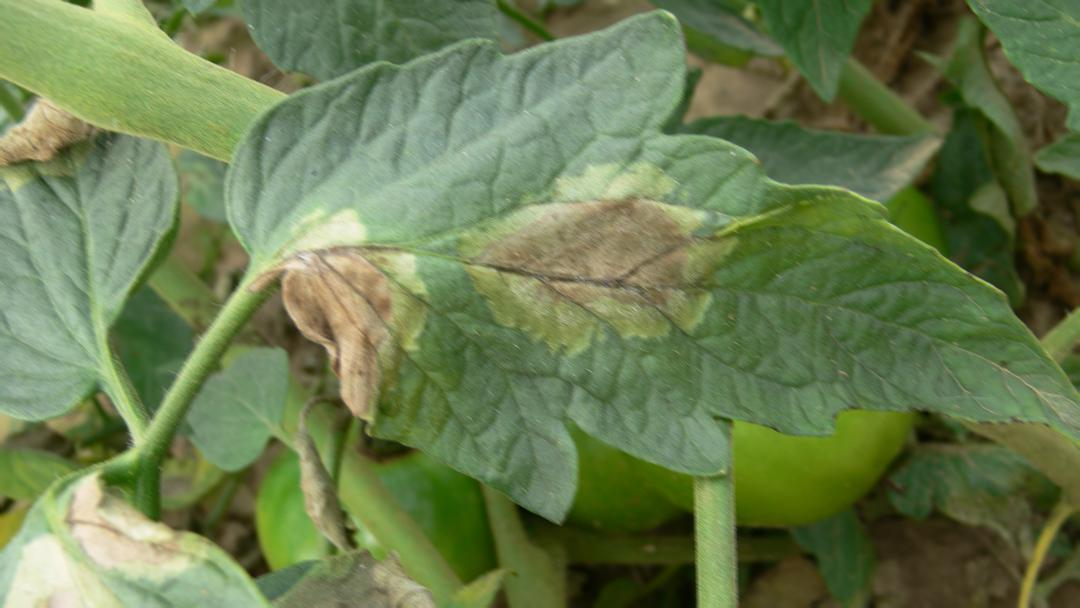Tomato leaf late blight: (211, 14, 1079, 544)
